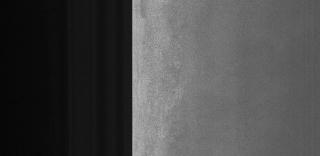silk spot: (160, 32, 188, 136)
